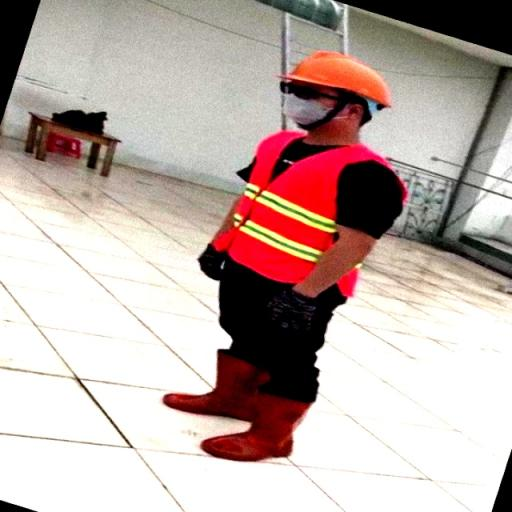boots: (193, 382, 309, 465), (154, 342, 261, 422)
gloves: (264, 282, 318, 344), (196, 233, 224, 277)
goggles: (276, 75, 345, 109)
helmet: (280, 40, 392, 114)
vest: (228, 116, 390, 302)
